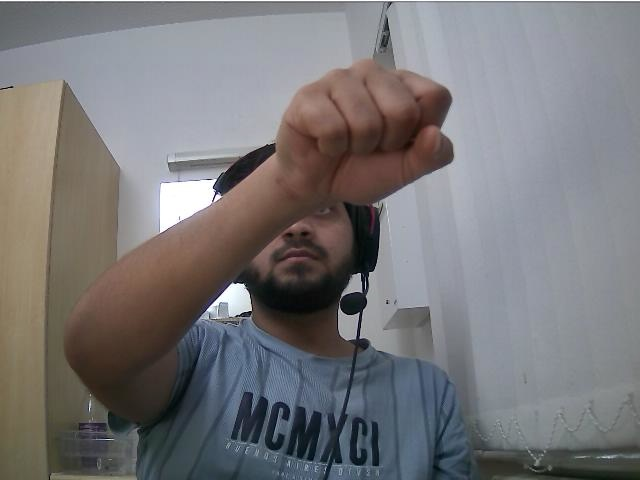hold: (277, 56, 454, 216)
